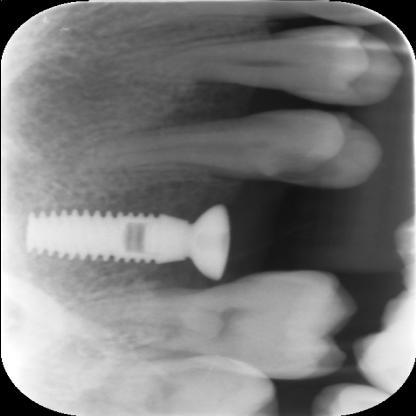Bicon: (27, 196, 188, 281)
